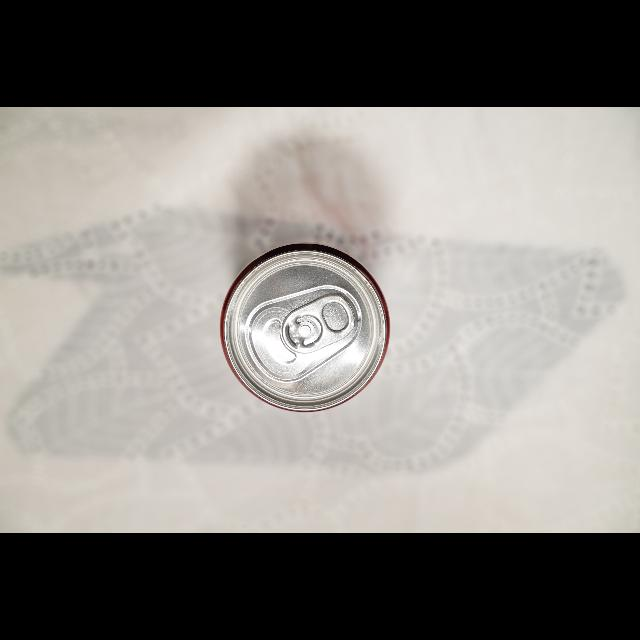coca_cola: (220, 242, 390, 413)
